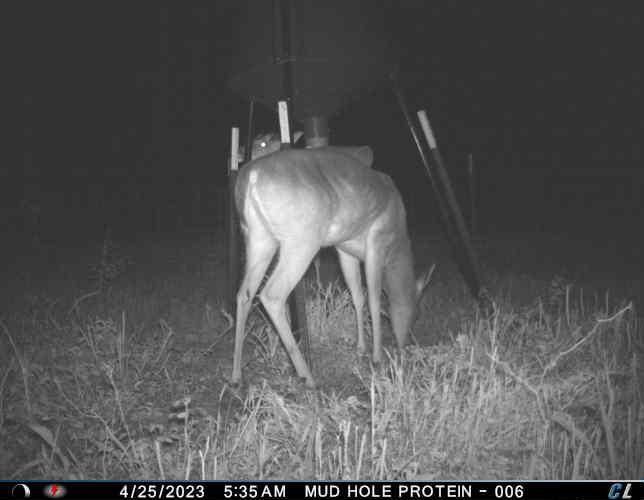Deer: (227, 149, 439, 394), (234, 129, 311, 162)
